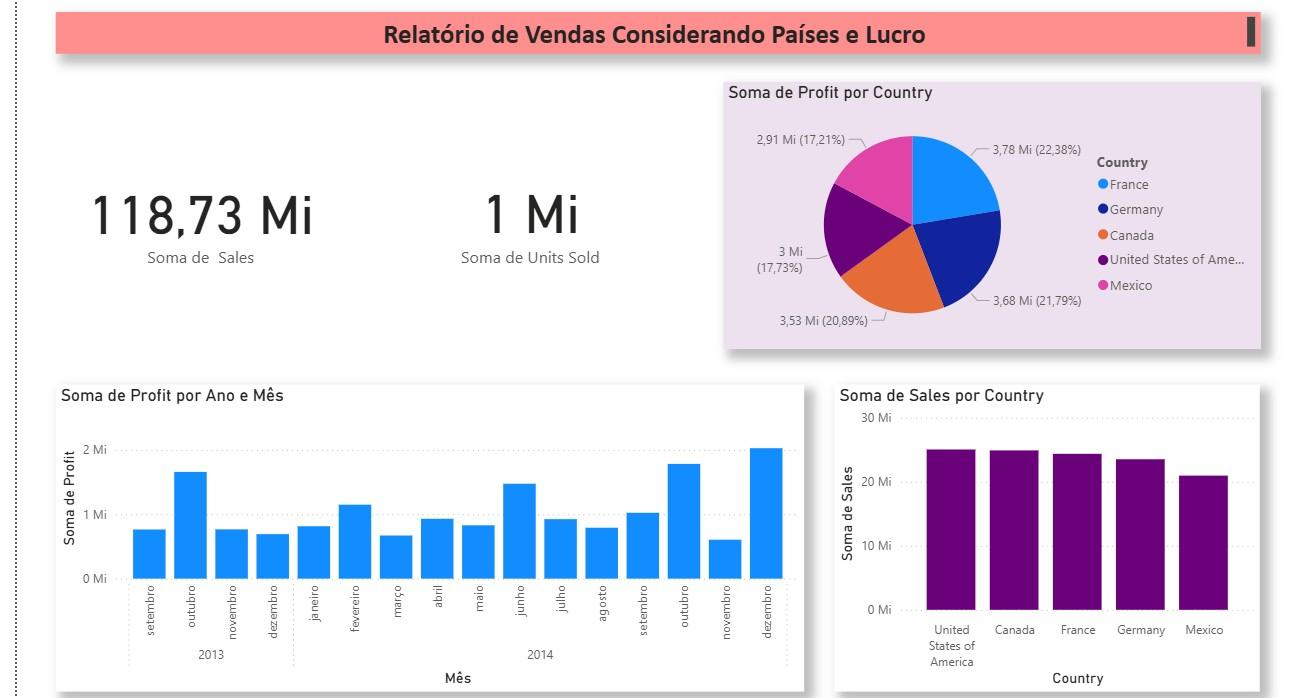

Layout of this report page (visuals, bound fields, positions):
{"tool":"powerbi","page":{"name":"Venda Pais/Lucro","canvas":[1280,720],"ordinal":1},"visuals":[{"type":"textbox","box":[38.5,24.7,1198.9,41.2],"z":0},{"type":"card","fields":{"Values":["Sum(financials. Sales)"]},"box":[38.5,155.4,288.7,149.9],"z":1000},{"type":"card","fields":{"Values":["Sum(financials.Units Sold)"]},"box":[357.5,154,308,151.2],"z":2000},{"type":"pieChart","fields":{"Category":["financials.Country"],"Y":["Sum(financials.Profit)"]},"box":[702.6,94.9,534.8,265.3],"z":3000},{"type":"clusteredColumnChart","fields":{"Y":["Sum(financials.Profit)"],"Category":["financials.Date.Variation.Hierarquia de datas.Ano","financials.Date.Variation.Hierarquia de datas.Mês"]},"box":[38.5,396,745.2,305.2],"z":4000},{"type":"clusteredColumnChart","fields":{"Category":["financials.Country"],"Y":["Sum(financials. Sales)"]},"box":[813.9,396,423.5,305.2],"z":5000}]}

Visuals, with their boxes on the page's 1280x720 design canvas (x1, y1, x2, y2). These are canvas units, not pixel positions in the 1298x698 screenshot, which may show the page scaled, cropped or inside an application window:
textbox: crop(38, 25, 1237, 66)
card - Sum(financials. Sales): crop(38, 155, 327, 305)
card - Sum(financials.Units Sold): crop(358, 154, 666, 305)
pieChart - financials.Country x Sum(financials.Profit): crop(703, 95, 1237, 360)
clusteredColumnChart - Sum(financials.Profit) x financials.Date.Variation.Hierarquia de datas.Ano: crop(38, 396, 784, 701)
clusteredColumnChart - financials.Country x Sum(financials. Sales): crop(814, 396, 1237, 701)
